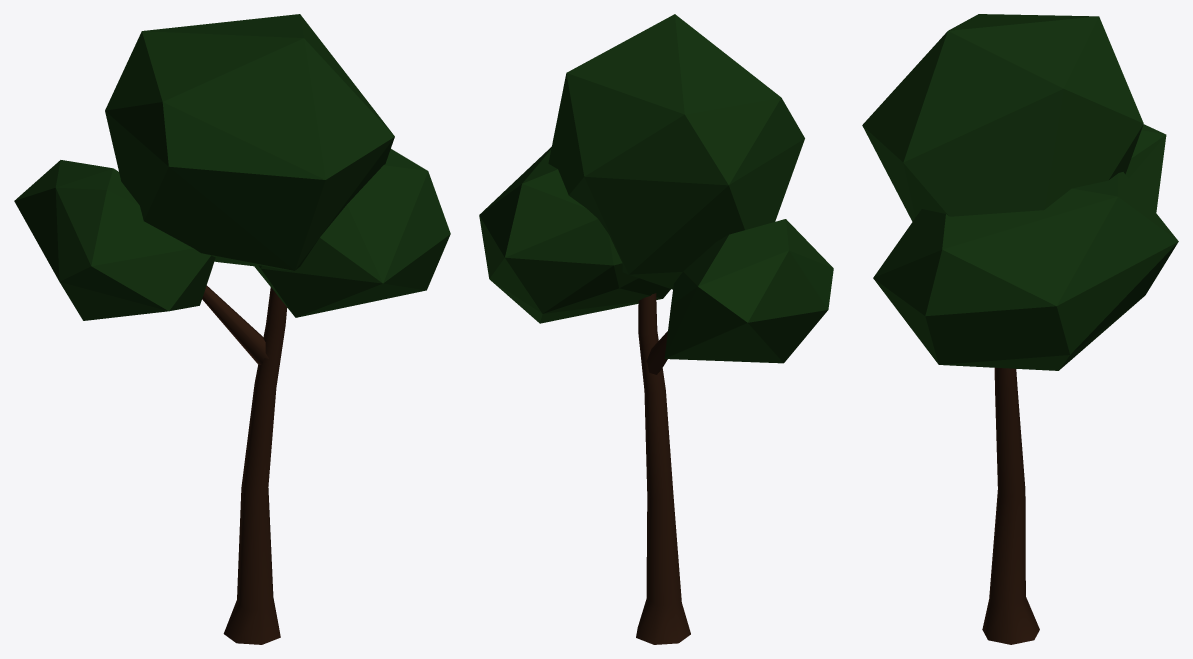
Rendered from lib-tree-oak-med-tall-a.fbx.
The picture shows the model from 3 angles, left to right: view 1: azimuth 30°, elevation 25°; view 2: azimuth 150°, elevation 25°; view 3: azimuth 270°, elevation 25°; orthographic projection. The views are drawn at different scales.
Parts seen in each view (by area): view 1: pCylinder22; view 2: pCylinder22; view 3: pCylinder22.
Part boxes in pixels (bbox=[...]): pCylinder22: bbox=[14, 14, 450, 644]; pCylinder22: bbox=[479, 14, 833, 644]; pCylinder22: bbox=[862, 14, 1178, 644].
Size of the model in its own units: 11.21 by 18.78 by 8.82.
